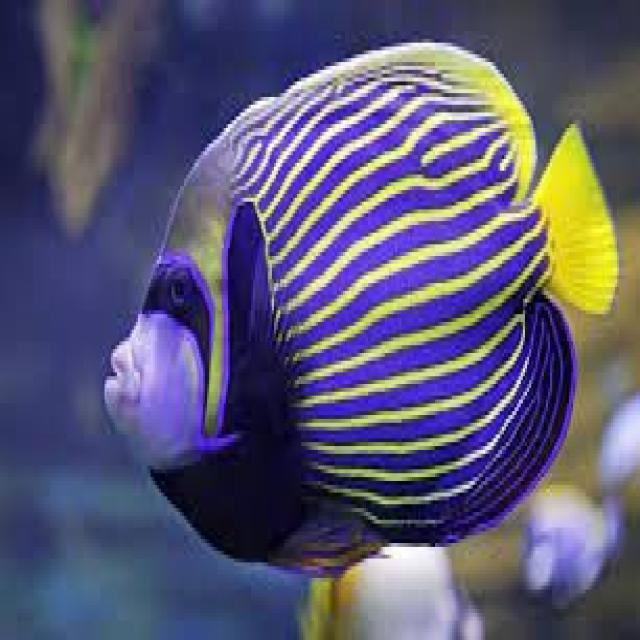AngelFish: (103, 46, 617, 581)
